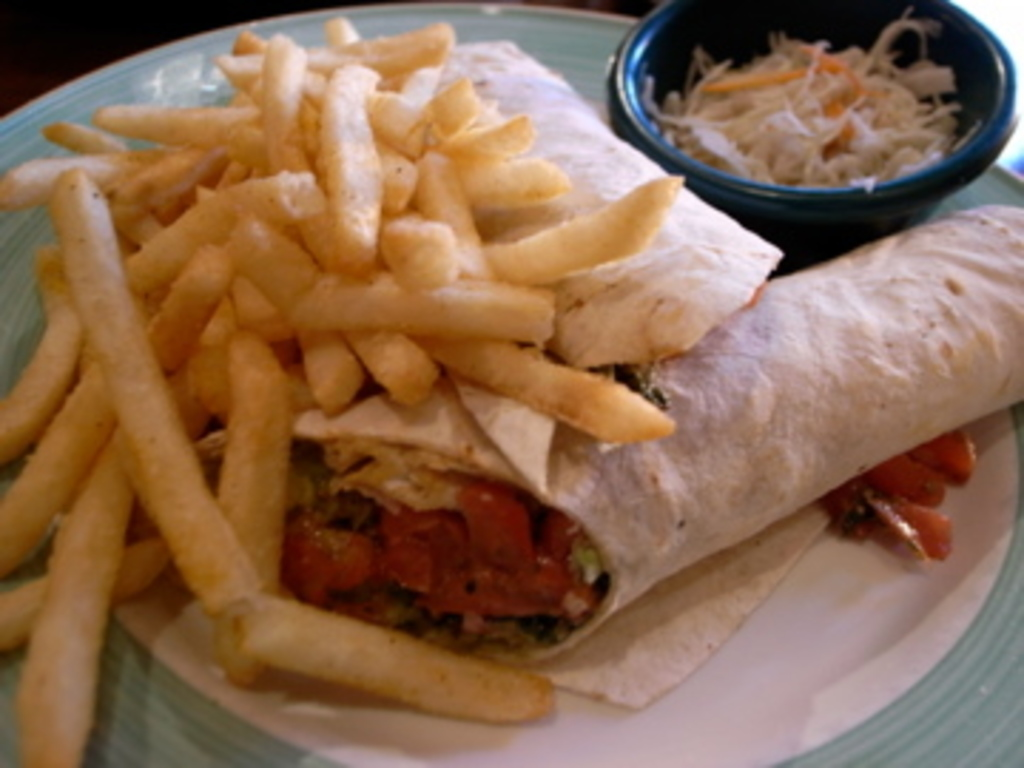French fries: (0, 8, 691, 765)
